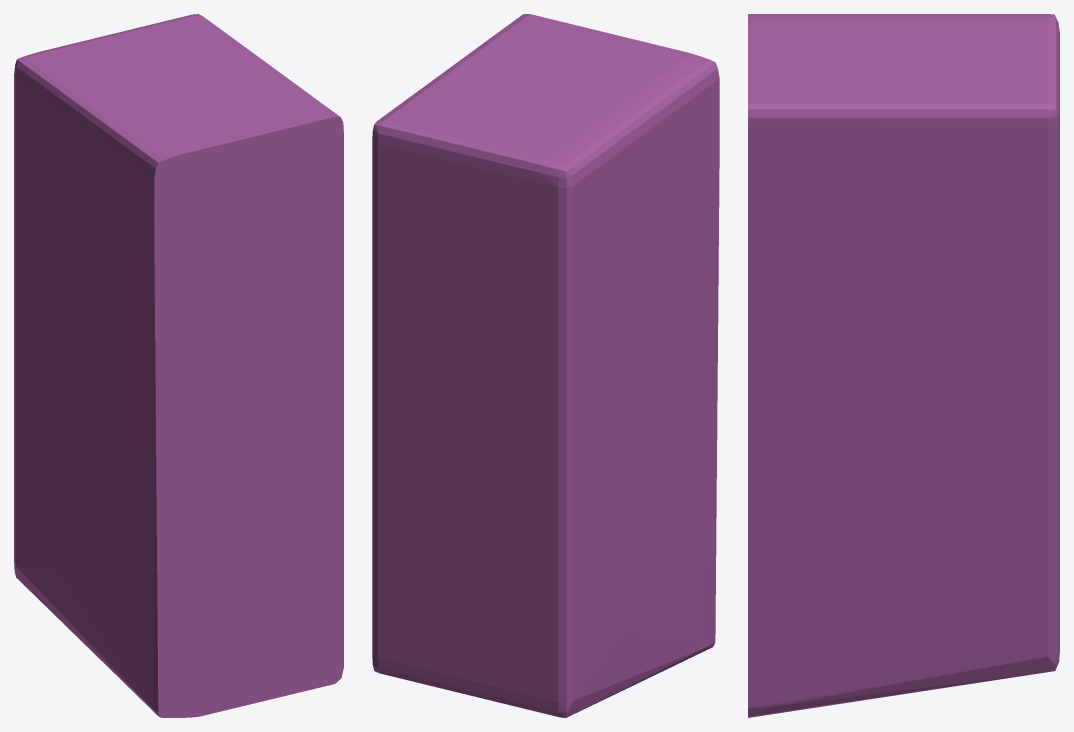
Rendered from left_f_proximal_part_7.obj.
The picture shows the model from 3 angles, left to right: view 1: azimuth 30°, elevation 25°; view 2: azimuth 150°, elevation 25°; view 3: azimuth 270°, elevation 25°; orthographic projection. The views are drawn at different scales.
Size of the model in its own units: 5.27 by 15.07 by 6.94.
